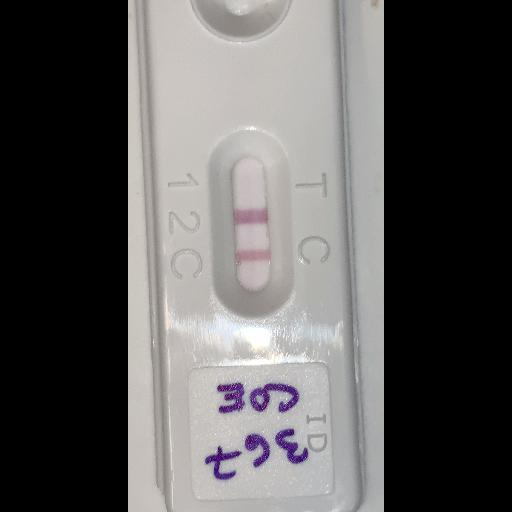Pos: (139, 0, 364, 507)
